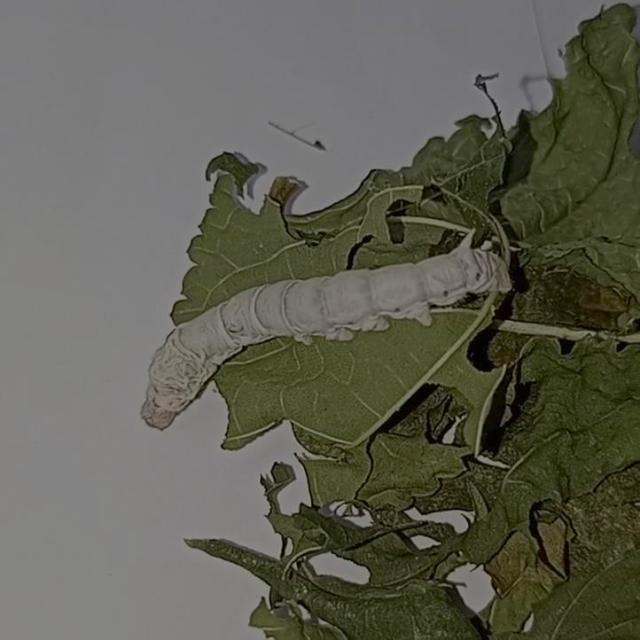Healthy: (132, 218, 523, 446)
